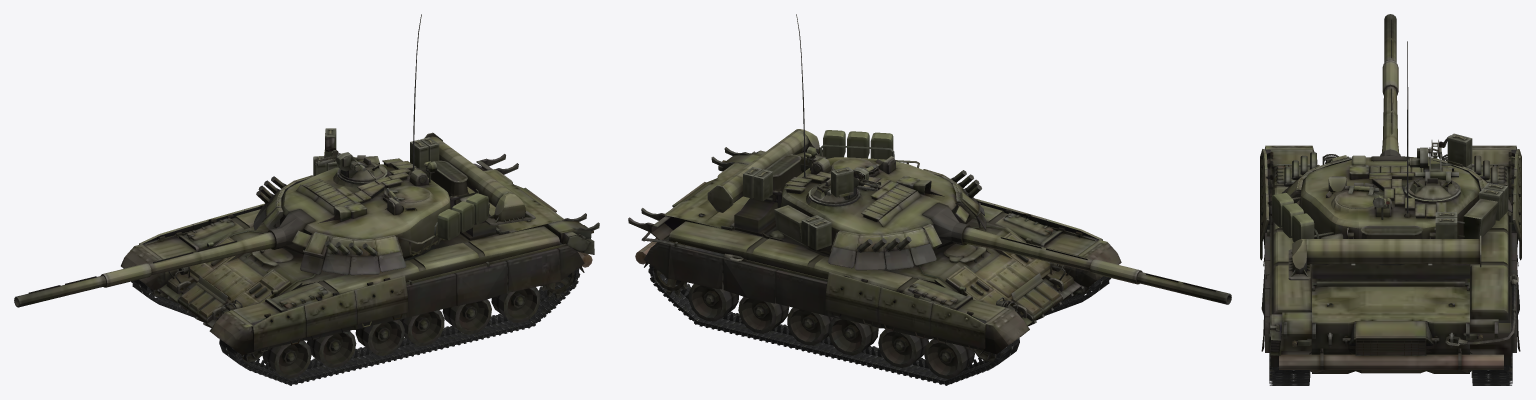
3 renders of one model, left to right at view 1: azimuth 30°, elevation 25°; view 2: azimuth 150°, elevation 25°; view 3: azimuth 270°, elevation 25°, orthographic. The views are drawn at different scales.
Parts seen in each view (by area): view 1: Object_2, Object_3, turret_Object_2, Object_4, turret_Object_3, barrel_Object_2; view 2: Object_2, Object_3, turret_Object_2, Object_4, turret_Object_3, barrel_Object_2; view 3: Object_2, turret_Object_2, Object_3, turret_Object_3, barrel_Object_2, Object_4.
Boxes of the visible parts, box(x1,y1,x2,y2) form: Object_2: box(145, 132, 599, 378); Object_3: box(121, 203, 584, 355); turret_Object_2: box(263, 14, 496, 266); Object_4: box(131, 267, 580, 385); turret_Object_3: box(263, 158, 416, 265); barrel_Object_2: box(14, 232, 275, 307); Object_2: box(628, 129, 1096, 378); Object_3: box(644, 197, 1121, 354); turret_Object_2: box(734, 14, 974, 266); Object_4: box(648, 264, 1111, 385); turret_Object_3: box(784, 169, 980, 261); barrel_Object_2: box(962, 227, 1231, 304); Object_2: box(1266, 149, 1518, 377); turret_Object_2: box(1284, 41, 1508, 281); Object_3: box(1260, 145, 1521, 367); turret_Object_3: box(1286, 155, 1487, 218); barrel_Object_2: box(1382, 14, 1398, 152); Object_4: box(1269, 353, 1512, 385).
Bounding box in the file's own units: 39.85 × 19.97 × 14.96.
3 materials, 3 textured.
